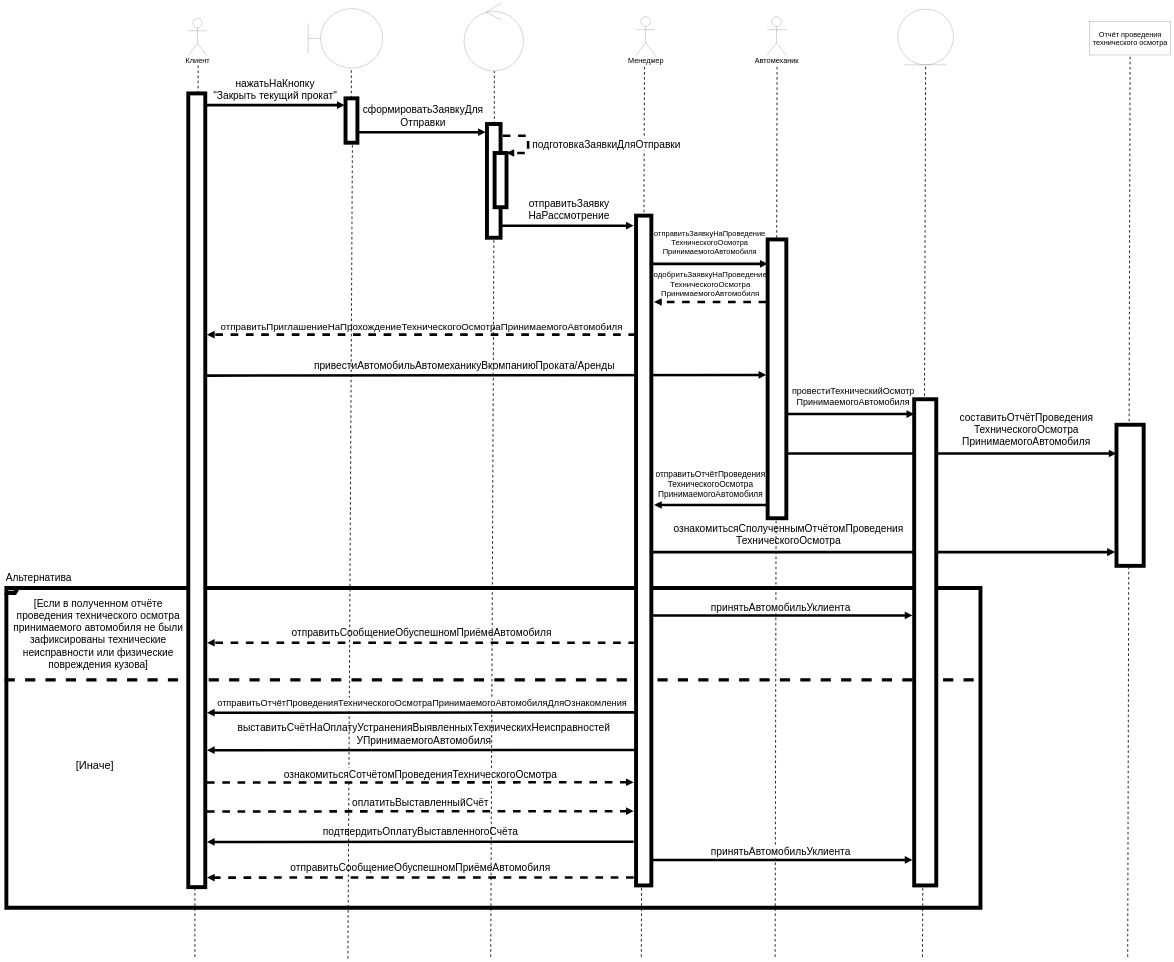
Image size: 1174x962. Some labels were removed from this diagram. Here are the shapes that lost their labels. From the top down, the centre of each, then its label:
pixel 345 38: Страница (экран) просмотра текущего проката/аренды автомобиля
pixel 494 37: Обработчик заявок на закрытие текущих прокатов аренд автомобилей
pixel 926 37: Автомобиль
